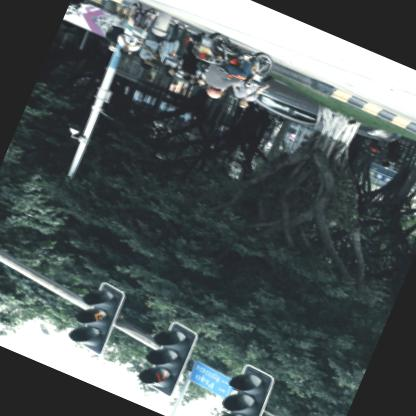trafficlight: (136, 318, 203, 402), (66, 276, 130, 358), (210, 364, 280, 415)
